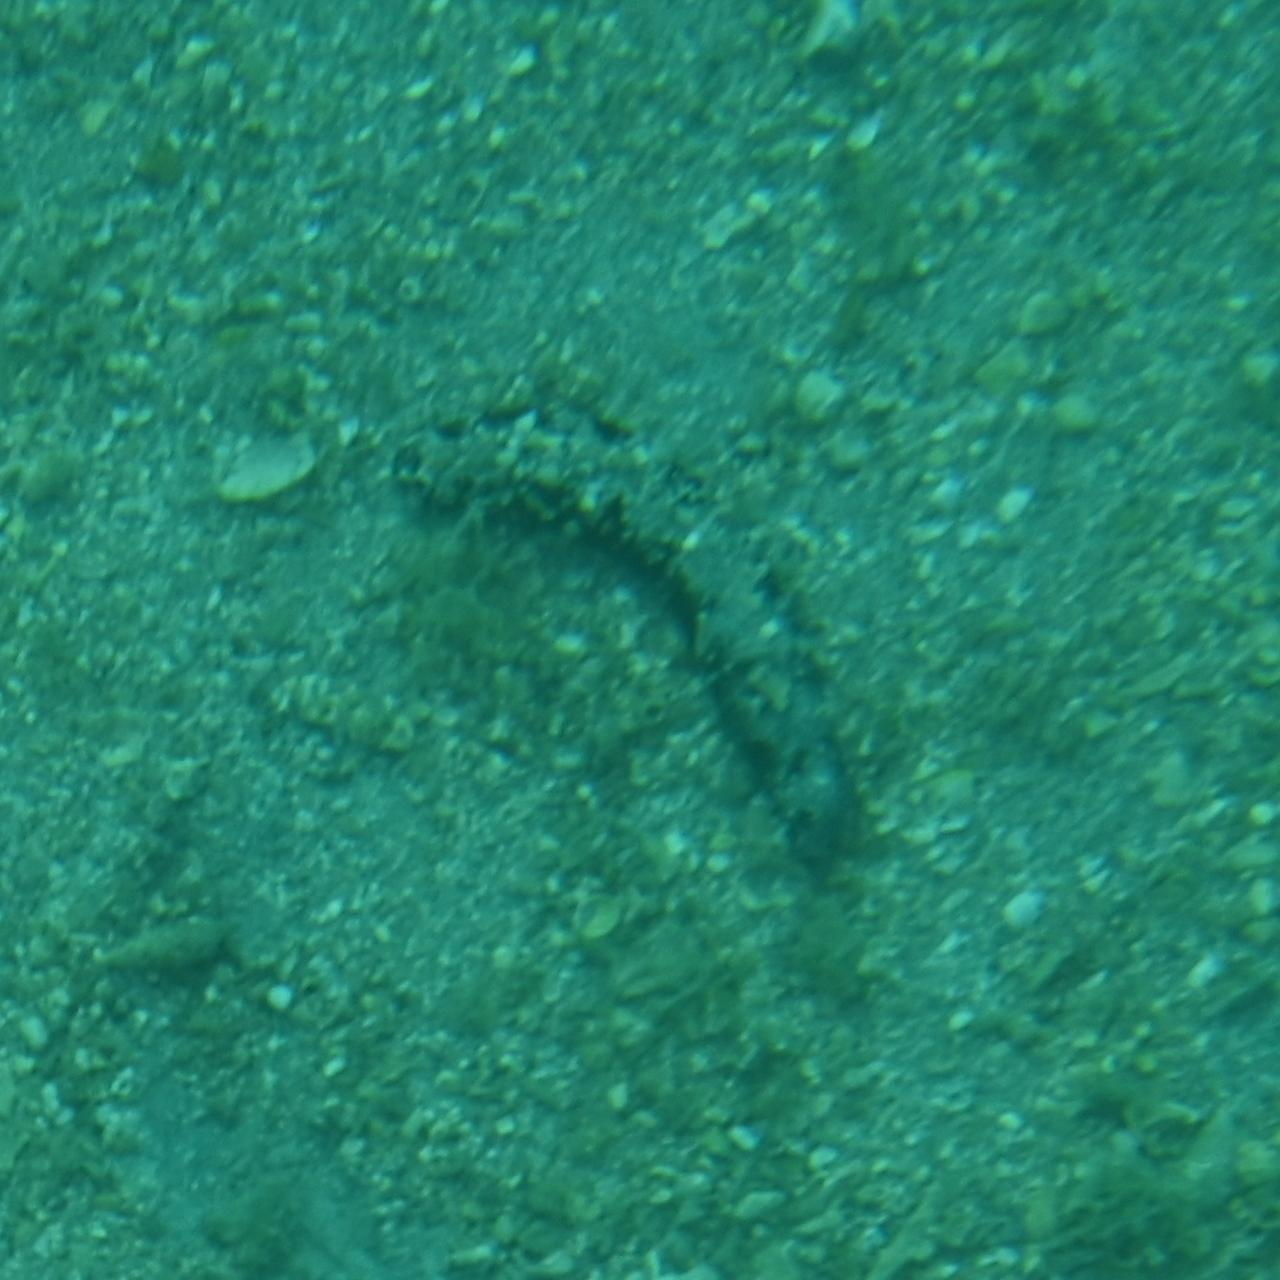Holothuria tubulosa: (392, 396, 888, 884)
